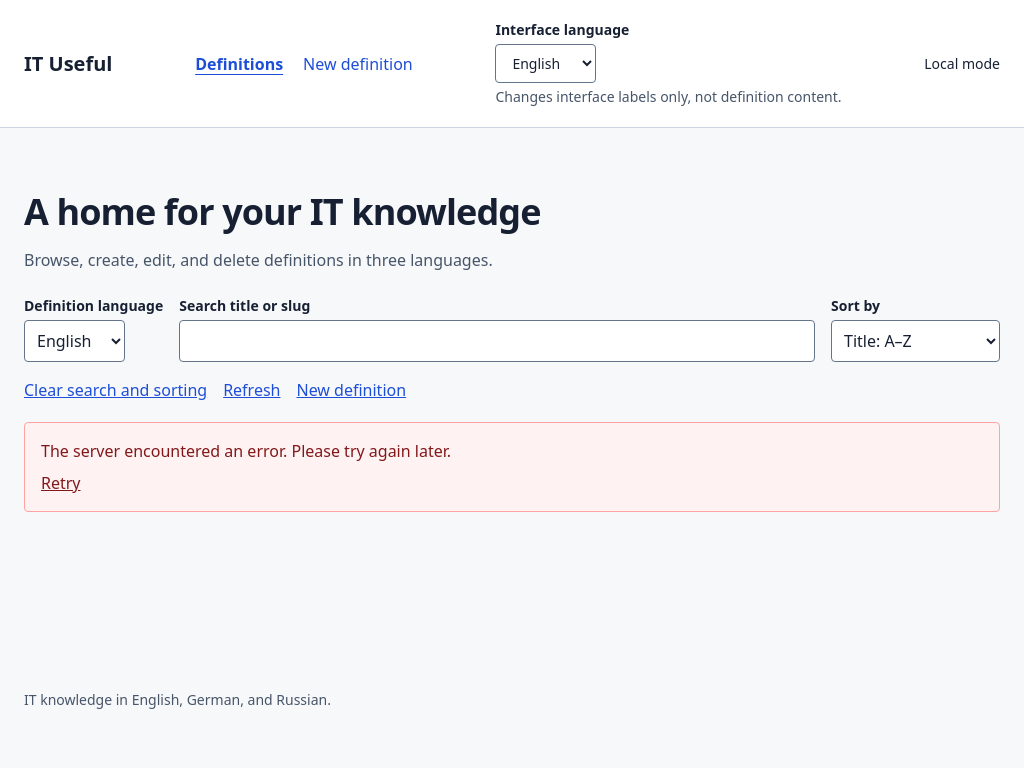
Scenario: list recovers from a failed read to an empty catalogue
The image size is (1024, 768).
Check: the message "The server encountered an error. Please try again later. Retry" is shown, box [24,422,1000,512]
What coordinates should you click on to do the following:
click the button "Retry"
I would click on:
 (61, 483)
Its box is [41,471,80,495].
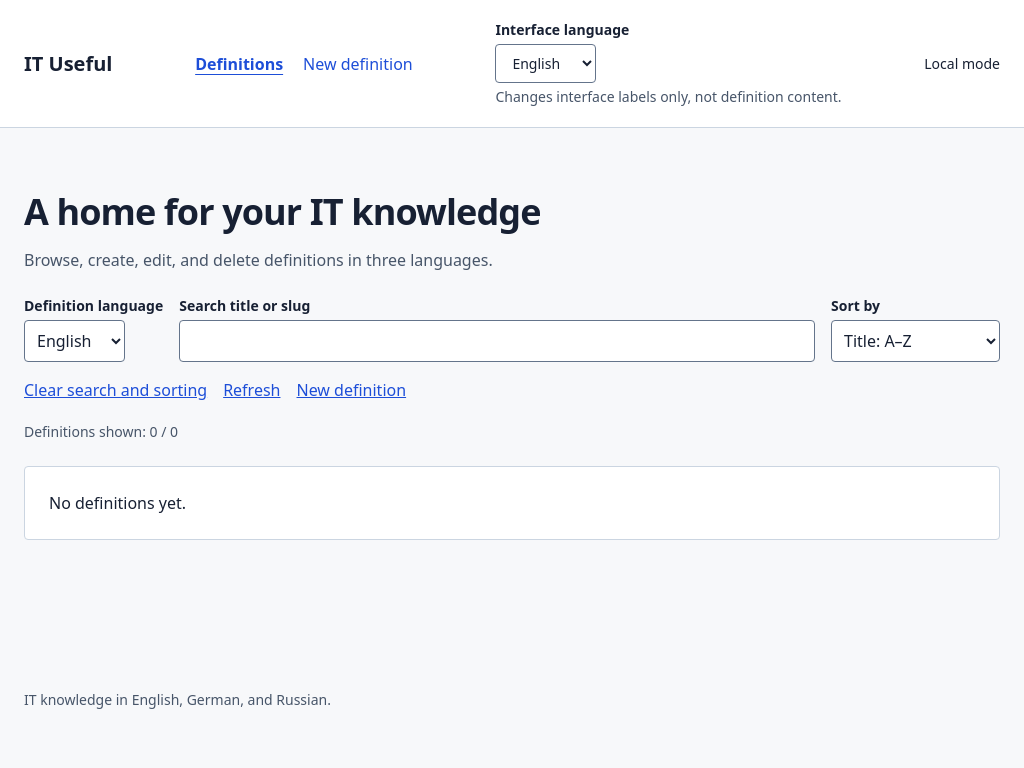
Check: the message shows "0 / 0", box [24,422,178,441]
